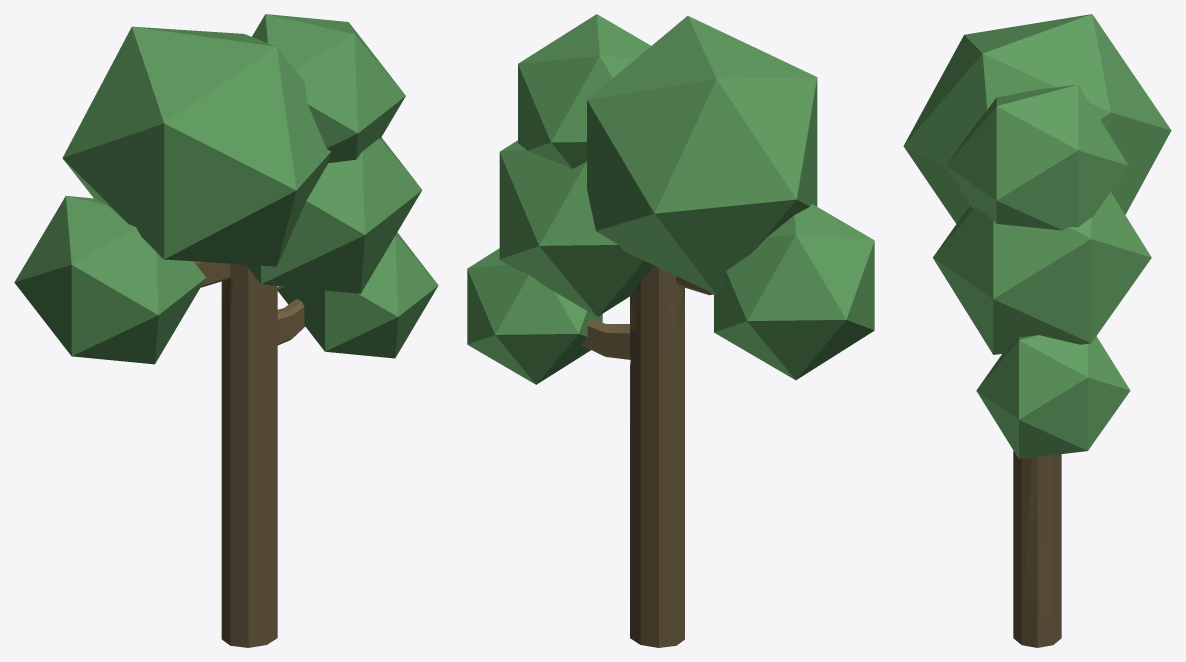
The model's file is GameJam_Tree1.fbx.
3 renders of one model, left to right at view 1: azimuth 30°, elevation 25°; view 2: azimuth 150°, elevation 25°; view 3: azimuth 270°, elevation 25°, orthographic. The views are drawn at different scales.
Visible parts, largest first — view 1: TreeShape1; view 2: TreeShape1; view 3: TreeShape1.
Part boxes in pixels (x1,y1,x2,y2): TreeShape1: (14,14,438,647); TreeShape1: (467,14,874,647); TreeShape1: (903,14,1171,647).
Size of the model in its own units: 6.22 by 9.25 by 3.86.
